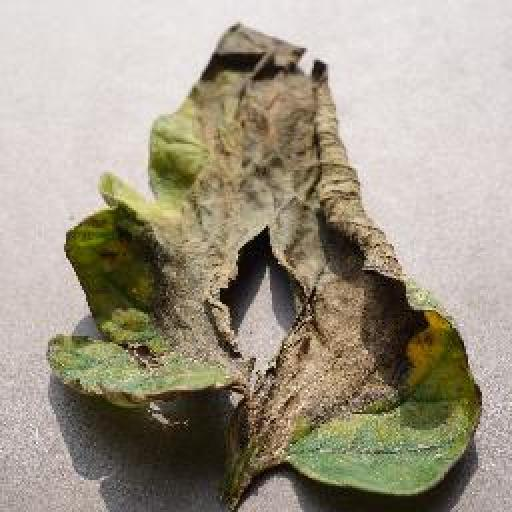disease_tomato: (48, 23, 485, 492)
